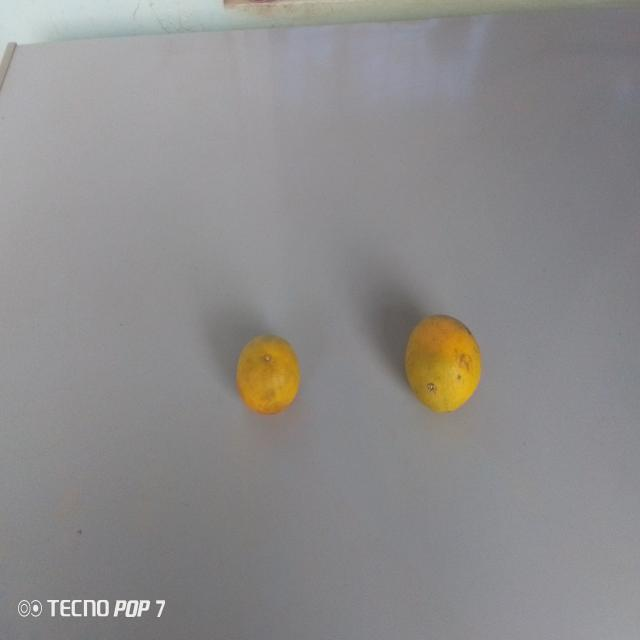Ripe orange: (396, 313, 486, 426), (229, 324, 313, 437)
